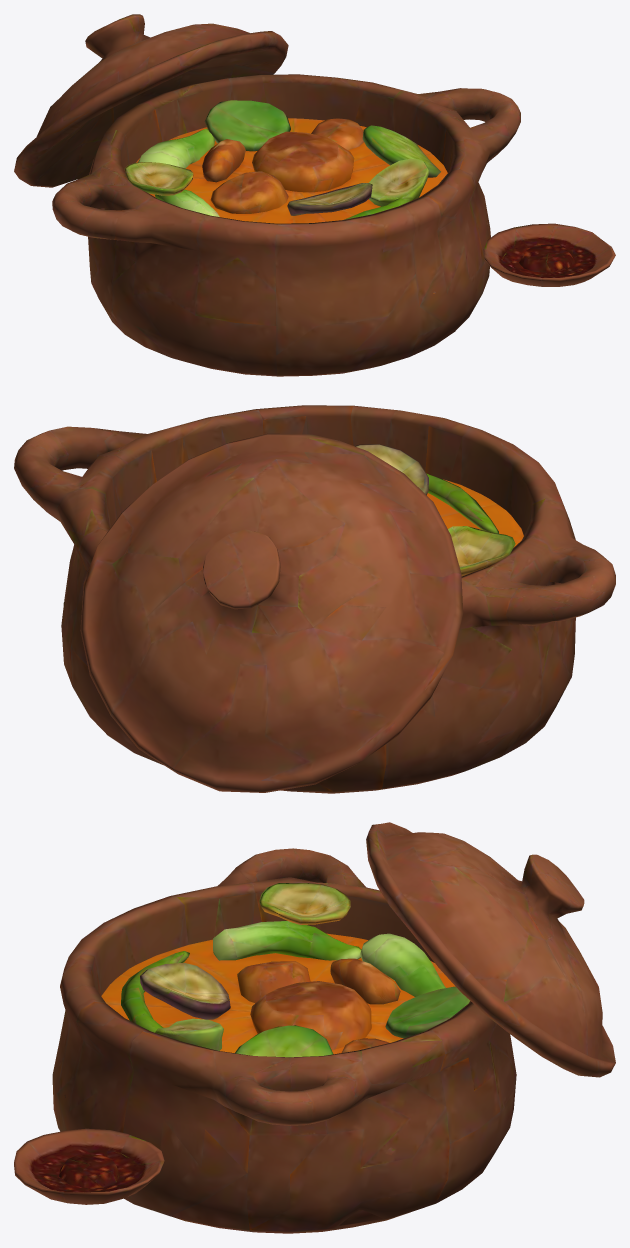
The model's file is kare-kare.glb.
The picture shows the model from 3 angles, top to bottom: view 1: azimuth 30°, elevation 25°; view 2: azimuth 150°, elevation 25°; view 3: azimuth 270°, elevation 25°; orthographic projection. The views are drawn at different scales.
Parts seen in each view (by area): view 1: geometry_0; view 2: geometry_0; view 3: geometry_0.
Part boxes in pixels (x1,y1,x2,y2): geometry_0: [14, 14, 615, 376]; geometry_0: [14, 405, 615, 793]; geometry_0: [14, 822, 615, 1233].
Size of the model in its own units: 1 by 0.5211 by 0.9984.
Materials: 1 (1 with a texture image).
